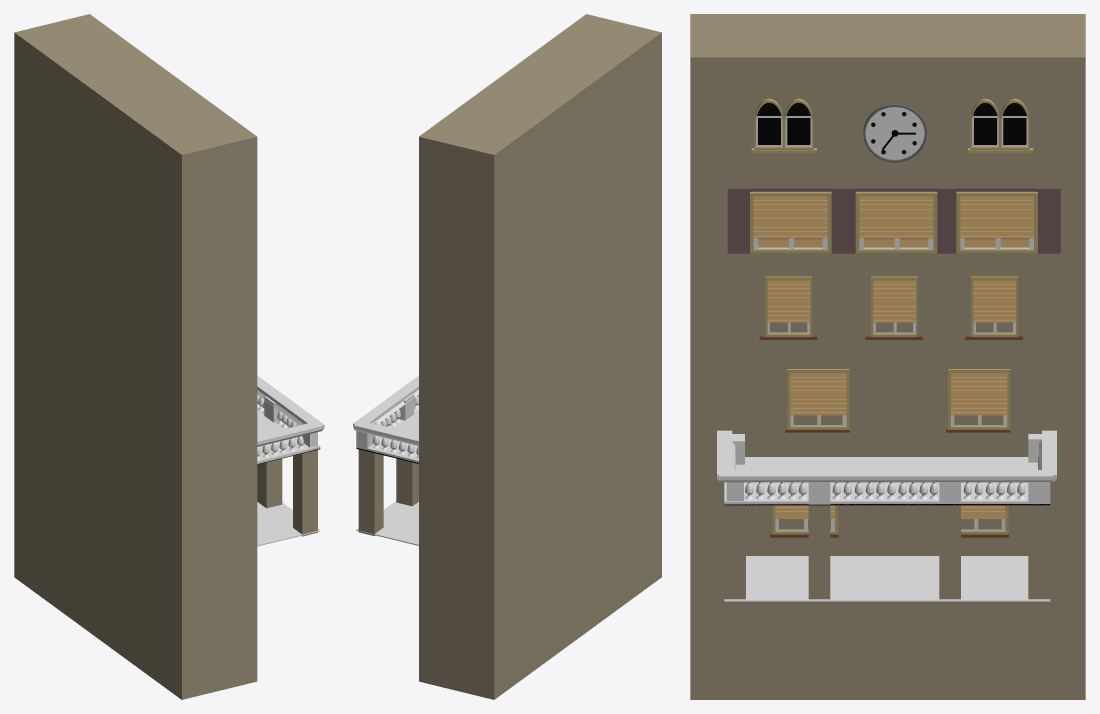
Rendered from puerta_antigua_frontal.fbx.
3 views of the same model, side by side, from view 1: azimuth 30°, elevation 25°; view 2: azimuth 150°, elevation 25°; view 3: azimuth 270°, elevation 25° (orthographic). The views are drawn at different scales.
Visible parts, largest first — view 1: Cubo.018, Cubo.003, Cube, Cubo, Cubo.016, Suelo, Cubo.015; view 2: Cubo.018, Cubo.001, Cube, Cubo.002, Cubo.016, Suelo, Cubo.010; view 3: Cubo.018, Cube, Suelo, Cubo.016, Cube.004, Cube.055, Cube.056, Cube.032, Cube.033, Cylinder, Cubo.001, Cubo (+27 smaller).
Part boxes in pixels (box(x1,y1,x2,y2)): Cubo.018: box(14, 14, 257, 699); Cubo.003: box(293, 450, 317, 536); Cube: box(257, 502, 320, 546); Cubo: box(257, 458, 282, 508); Cubo.016: box(257, 375, 324, 430); Suelo: box(257, 406, 320, 463); Cubo.015: box(257, 423, 322, 446); Cubo.018: box(419, 14, 661, 699); Cubo.001: box(358, 449, 383, 535); Cube: box(356, 501, 418, 545); Cubo.002: box(396, 458, 418, 506); Cubo.016: box(353, 375, 418, 427); Suelo: box(356, 406, 418, 462); Cubo.010: box(353, 420, 418, 445); Cubo.018: box(690, 14, 1085, 699); Cube: box(724, 556, 1050, 601); Suelo: box(724, 457, 1046, 504); Cubo.016: box(719, 470, 1053, 482); Cube.004: box(859, 196, 933, 247); Cube.055: box(753, 196, 827, 247); Cube.056: box(960, 196, 1033, 247); Cube.032: box(790, 373, 846, 415); Cube.033: box(951, 373, 1007, 415); Cylinder: box(865, 107, 924, 159); Cubo.001: box(1028, 505, 1050, 599); Cubo: box(808, 505, 830, 599).
Bounding box in the file's own units: 1943 × 6524 × 3636.
